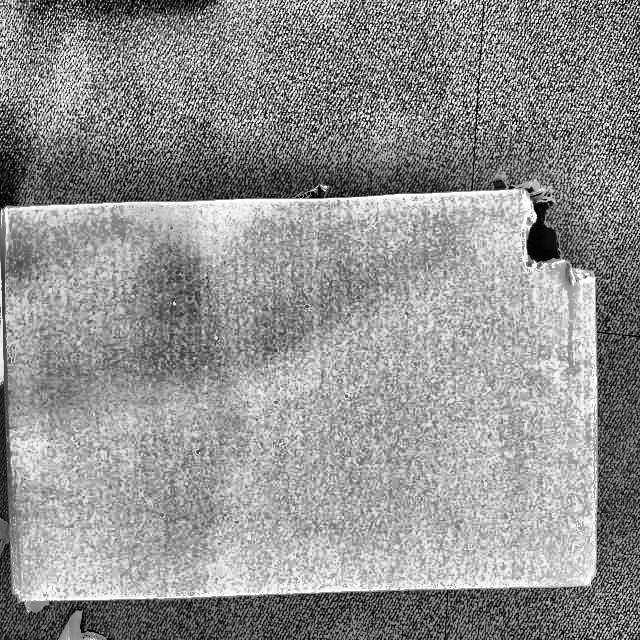box: (3, 184, 602, 597)
hole: (505, 193, 573, 285)
